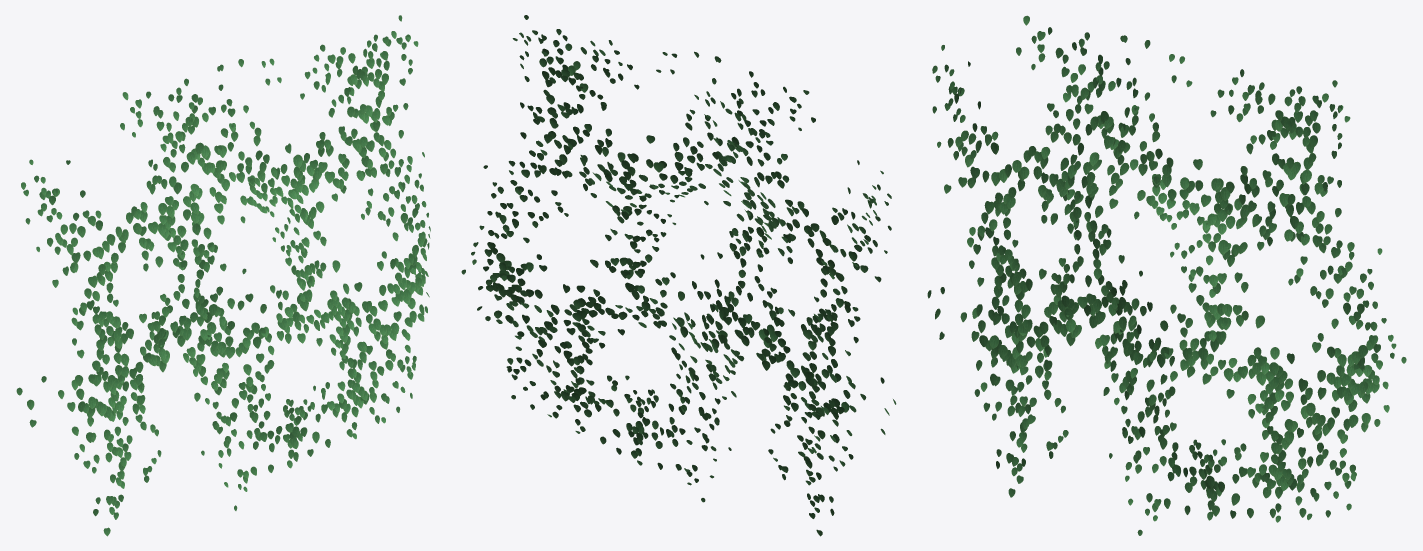
Rendered from ivy_wall2.fbx.
3 renders of one model, left to right at view 1: azimuth 30°, elevation 25°; view 2: azimuth 150°, elevation 25°; view 3: azimuth 330°, elevation 25°, orthographic. The views are drawn at different scales.
Parts seen in each view (by area): view 1: wall_ivy; view 2: wall_ivy; view 3: wall_ivy.
Boxes of the visible parts, bbox=[...] form: wall_ivy: bbox=[16, 15, 430, 536]; wall_ivy: bbox=[461, 15, 896, 536]; wall_ivy: bbox=[927, 15, 1406, 535].
Size of the model in its own units: 1530 by 1549 by 195.
